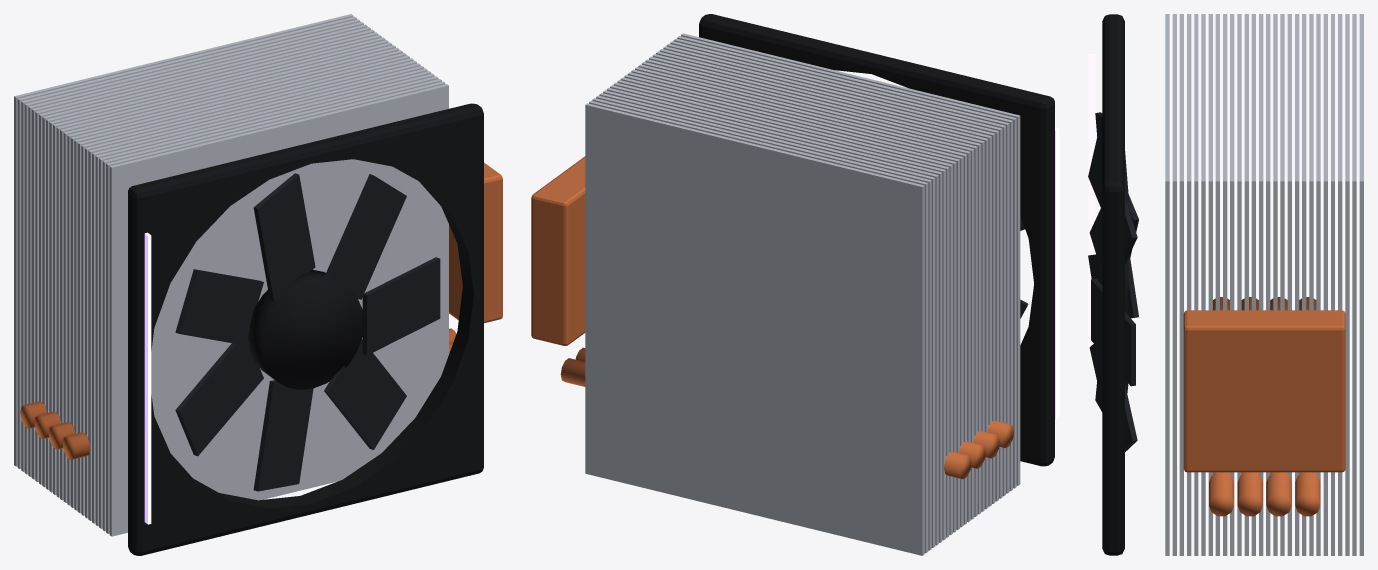
The model's file is cooler.glb.
3 views of the same model, side by side, from view 1: azimuth 30°, elevation 25°; view 2: azimuth 150°, elevation 25°; view 3: azimuth 270°, elevation 25° (orthographic).
Visible parts, largest first — view 1: cooler; view 2: cooler; view 3: cooler.
Boxes of the visible parts, bbox=[...] form: cooler: bbox=[14, 14, 502, 555]; cooler: bbox=[531, 14, 1059, 555]; cooler: bbox=[1088, 14, 1363, 555].
Size of the model in its own units: 1.36 by 1.15 by 0.7671.
